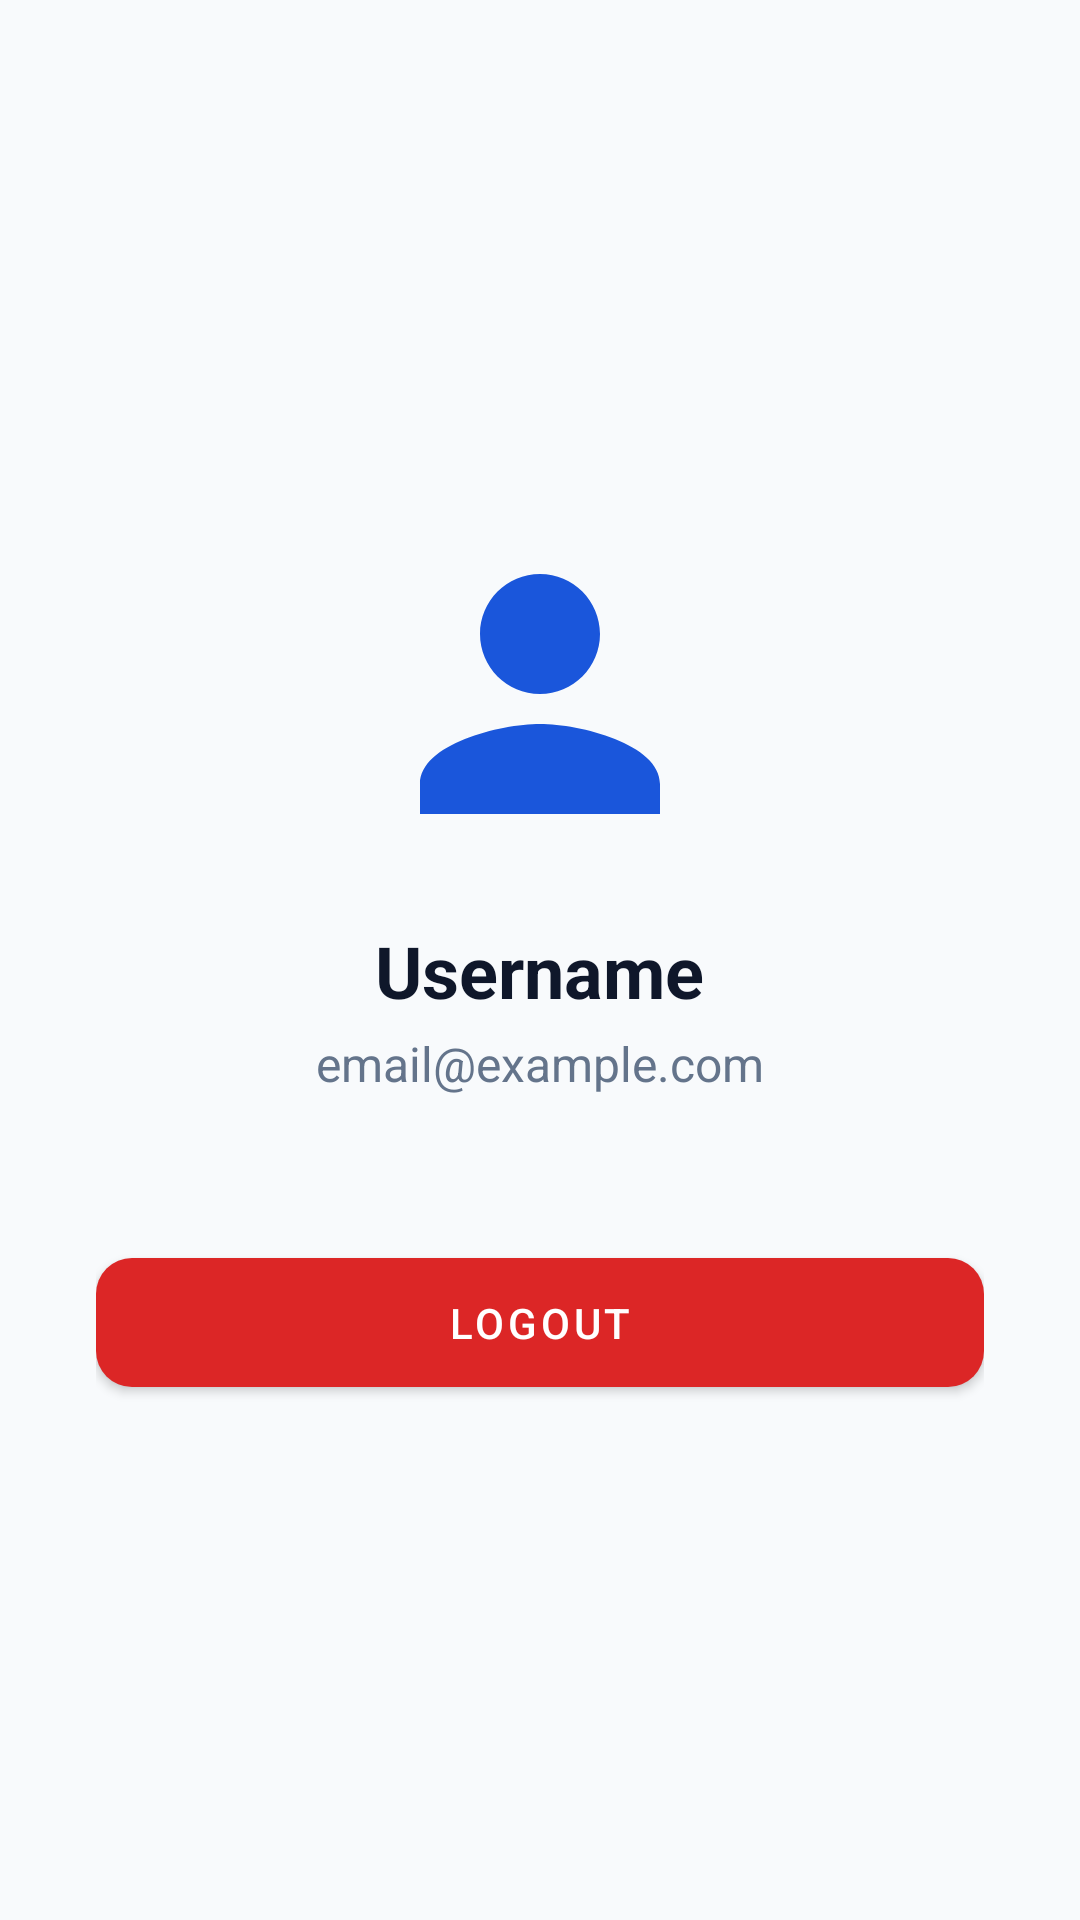

Screen size 1080×1920. Icon name, then its center in pixels as (x,y):
profile: (540,694)
